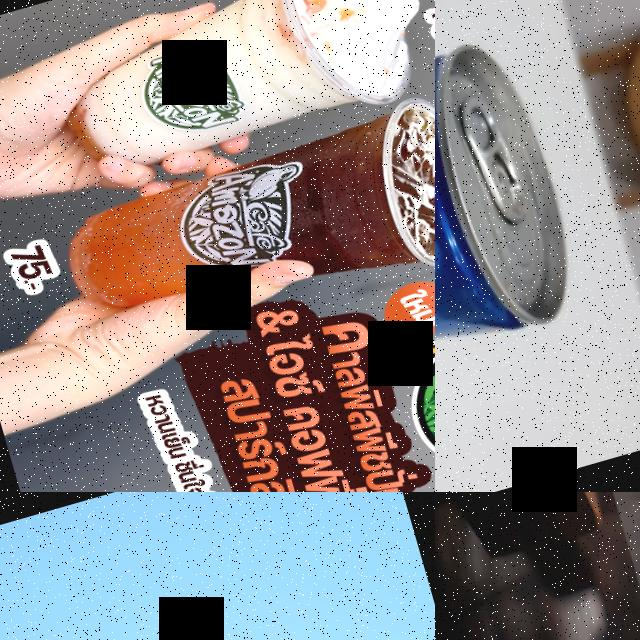can: (435, 37, 586, 422)
cup: (49, 87, 435, 366), (34, 0, 422, 191)
